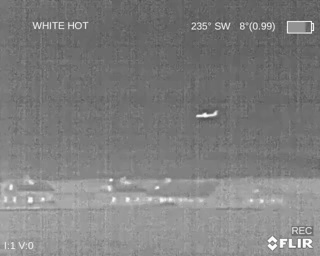AIRPLANE: (195, 110, 218, 118)
